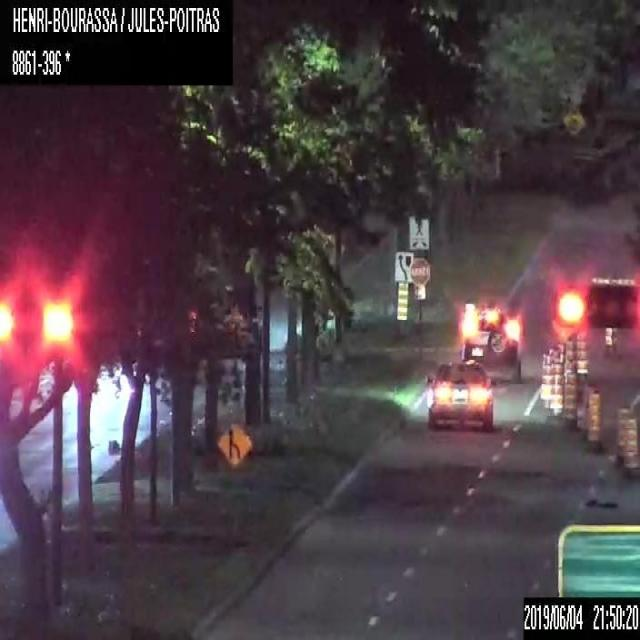construction: (215, 422, 252, 552), (585, 387, 602, 452), (547, 361, 564, 418), (622, 416, 639, 468), (616, 405, 630, 467), (562, 368, 576, 428), (538, 351, 552, 404), (575, 328, 588, 384), (604, 326, 616, 356)
vehicle: (424, 360, 495, 428), (461, 304, 522, 382)
